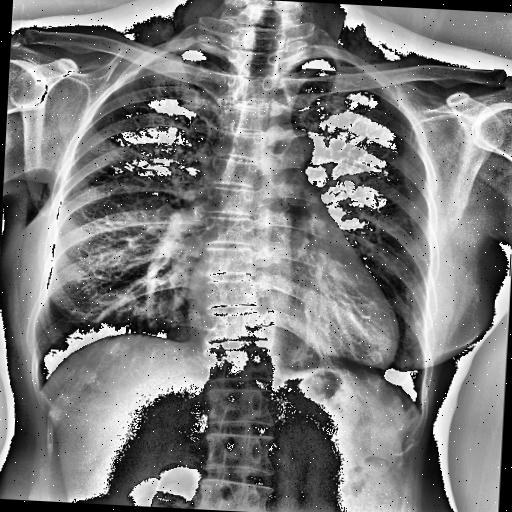0- Aortic enlargement: (256, 126, 318, 172)
11- Pleural thickening: (164, 46, 224, 63)
3- Cardiomegaly: (186, 278, 403, 378), (184, 274, 400, 372), (182, 289, 404, 378)
